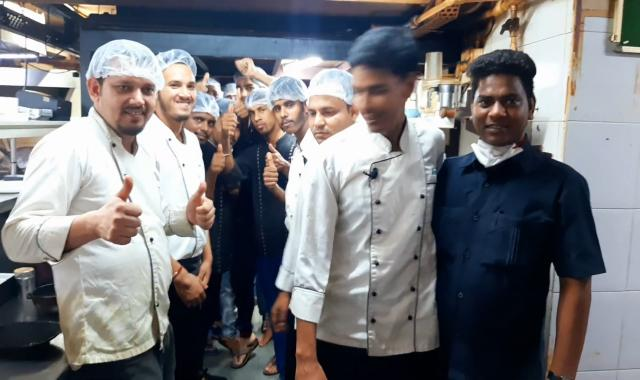hairnet: (84, 38, 157, 97), (308, 64, 352, 110), (267, 76, 306, 112), (157, 48, 199, 80), (192, 90, 220, 121), (247, 89, 272, 111)
no_hairnet: (465, 47, 537, 110), (350, 30, 420, 82)
